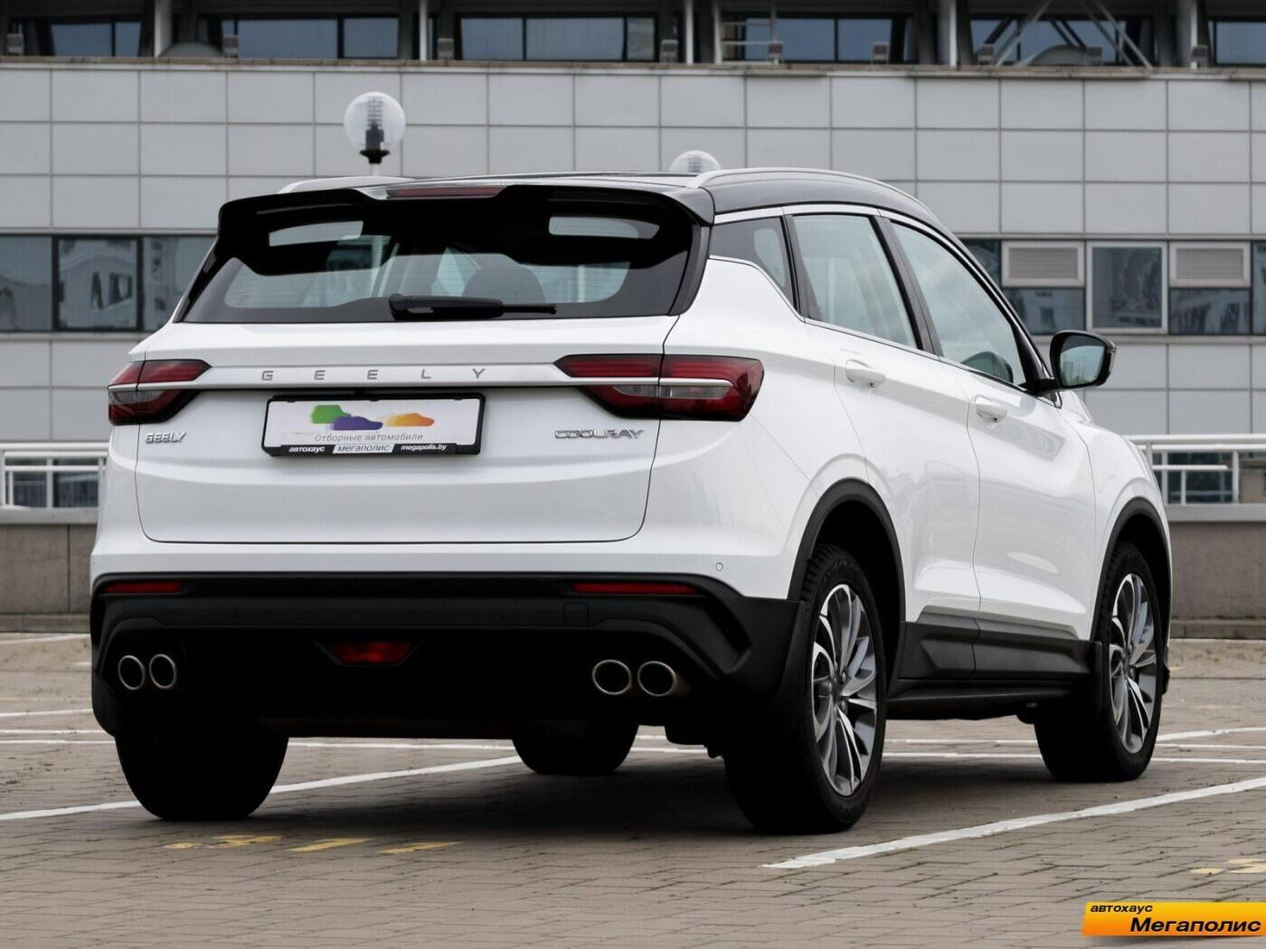Coolray_2019-2023: (85, 165, 1178, 833)
